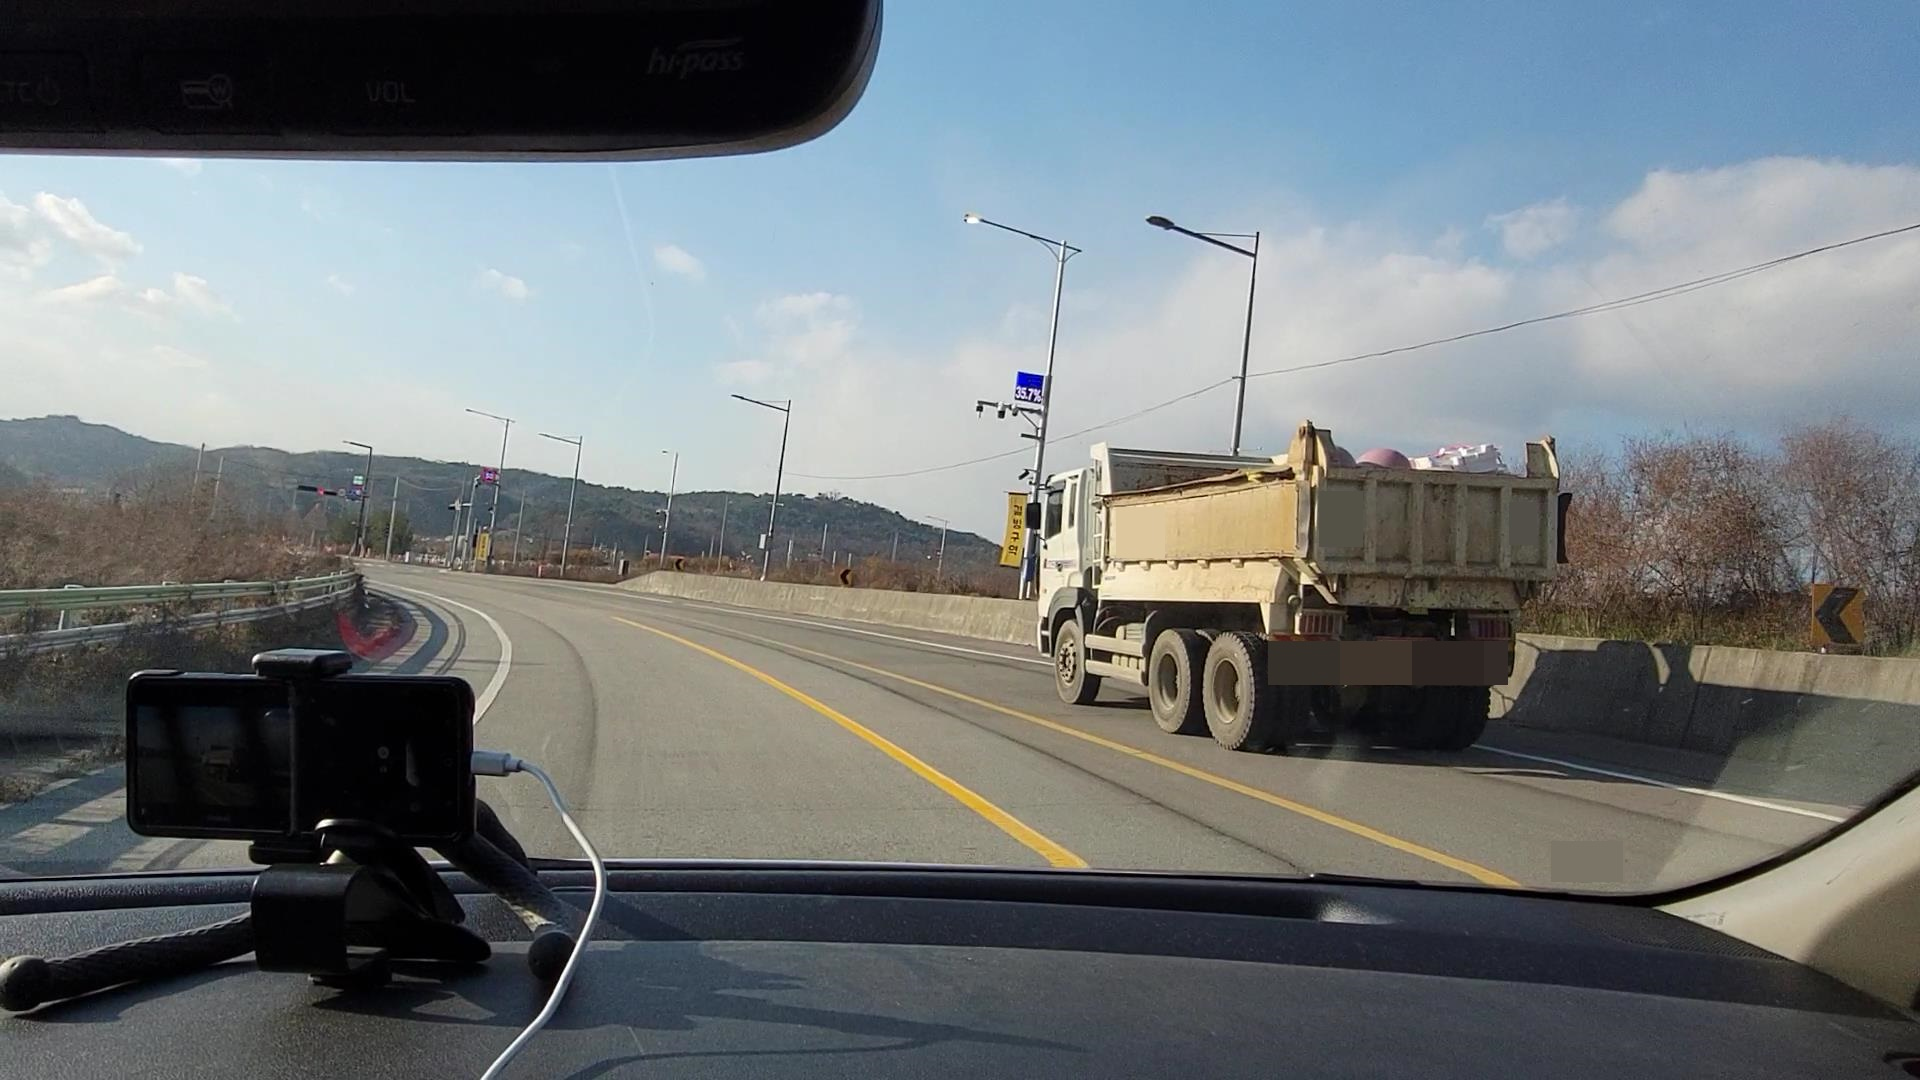불법차량: (1026, 417, 1573, 753)
